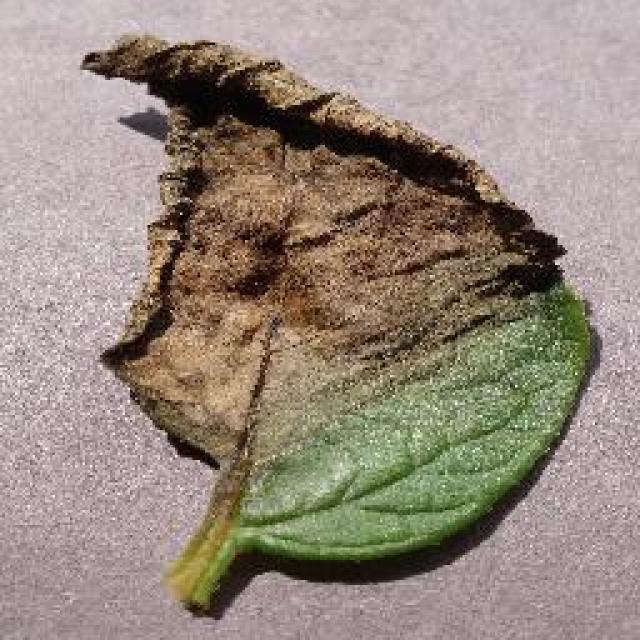late_blight: (75, 27, 600, 615)
